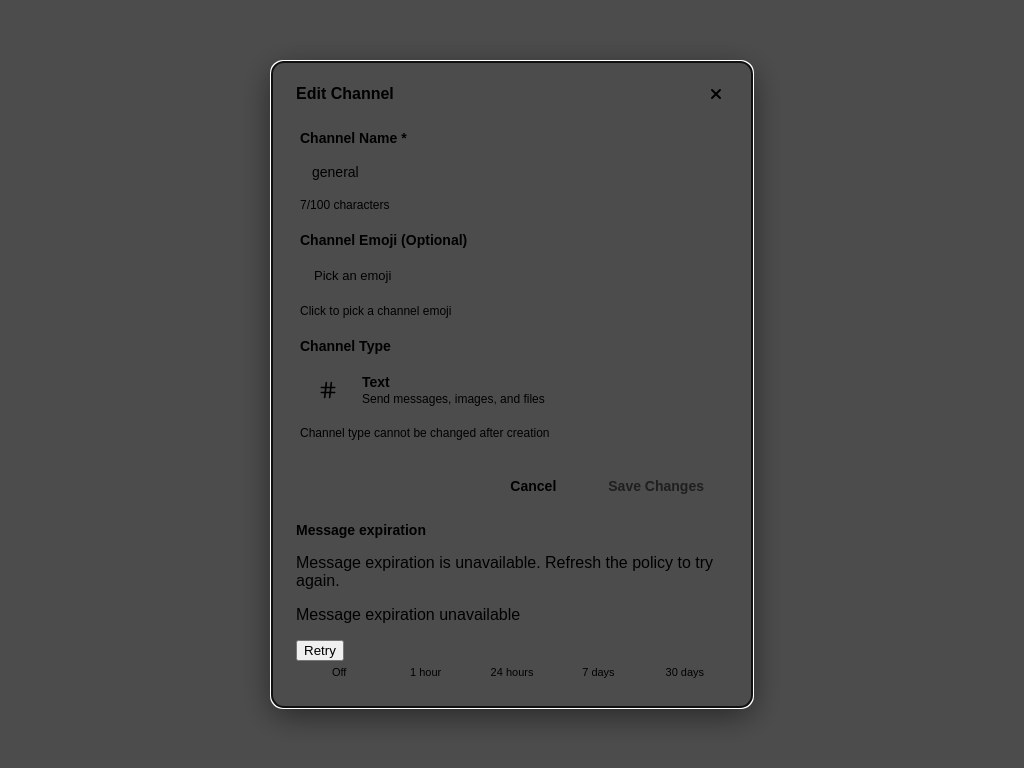
Test: EditChannelModal › validates short name
Replace the text in the field showing "general" with "ab": (512, 172) [300,154,724,190]
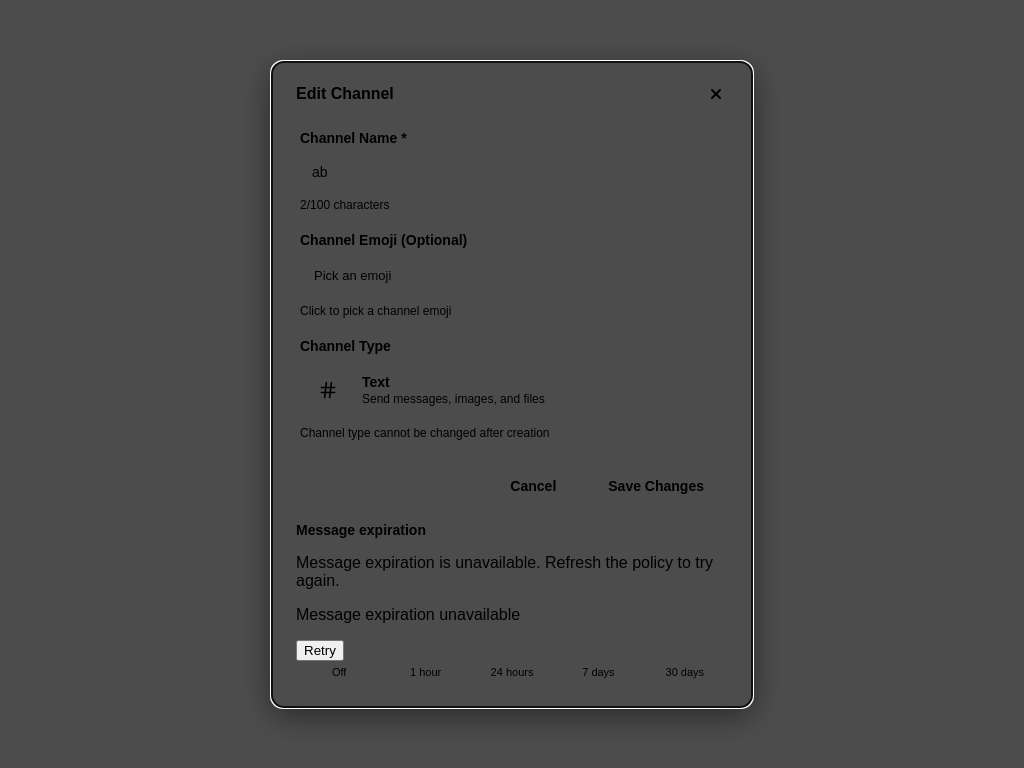
Click the button "Save Changes": (656, 486) [588,468,724,504]
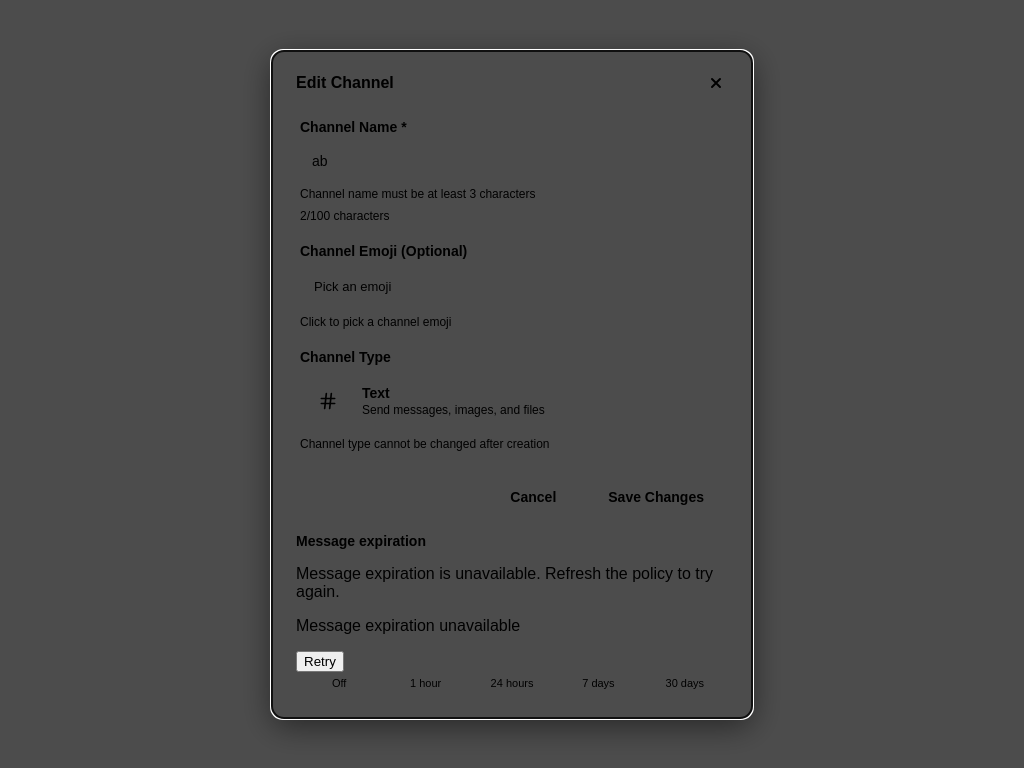
Check: the text "Channel name must be at least 3 characters" is shown, box [300,186,536,200]
